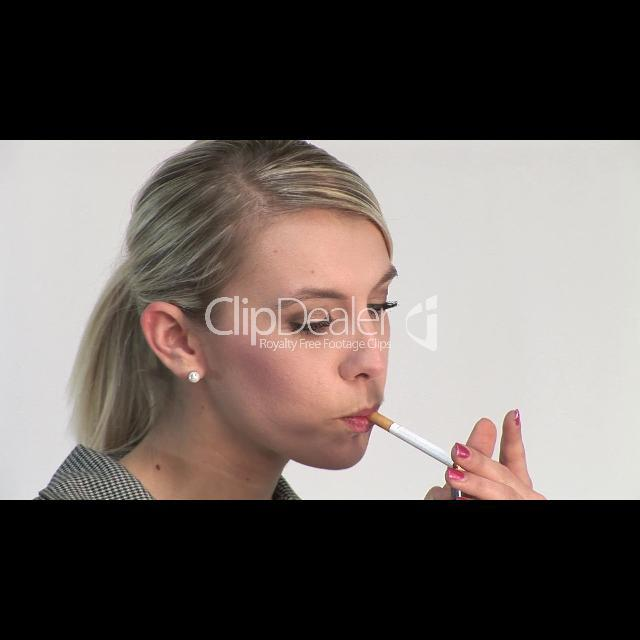rokok: (372, 405, 460, 471)
